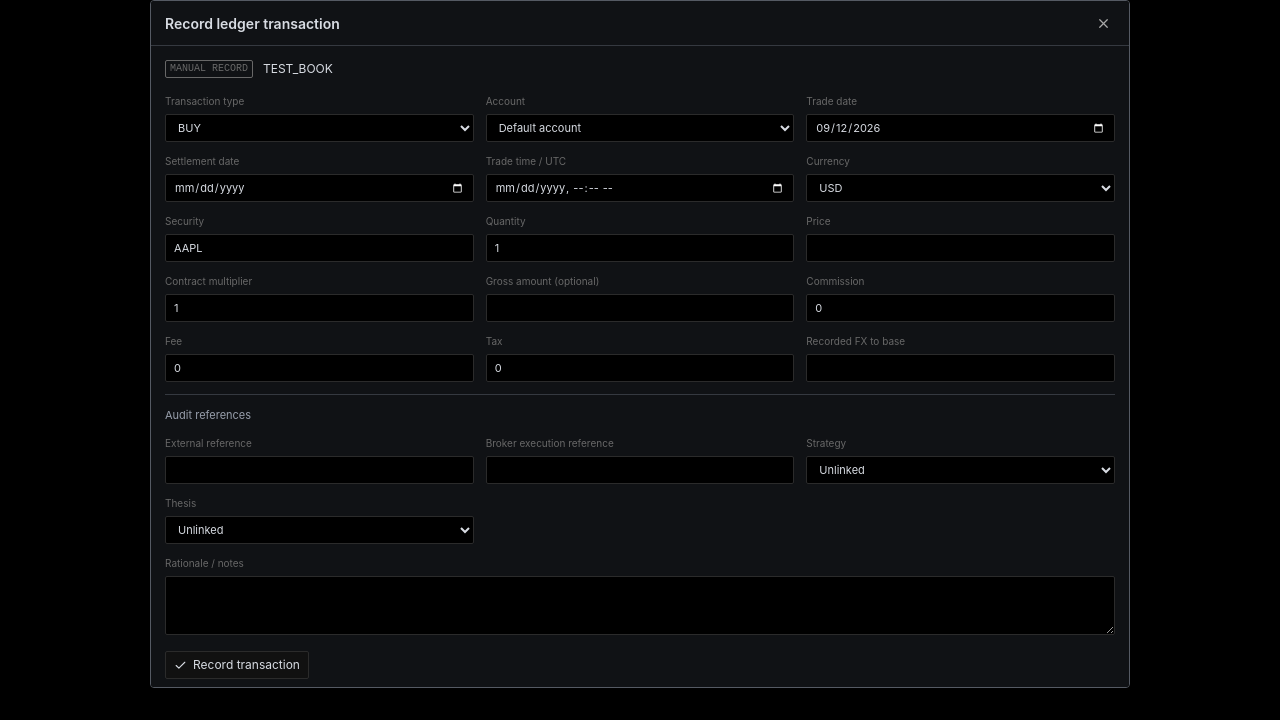
manual transaction entry › exposes the correct reverse-split, spinoff and merger inputs
expect the element "Transaction type" is enabled: met, box [165,94,1115,651]
Select "REVERSE_SPLIT" in the dropdown labelled "Transaction type" at x=319, y=128, box [165,114,474,142]
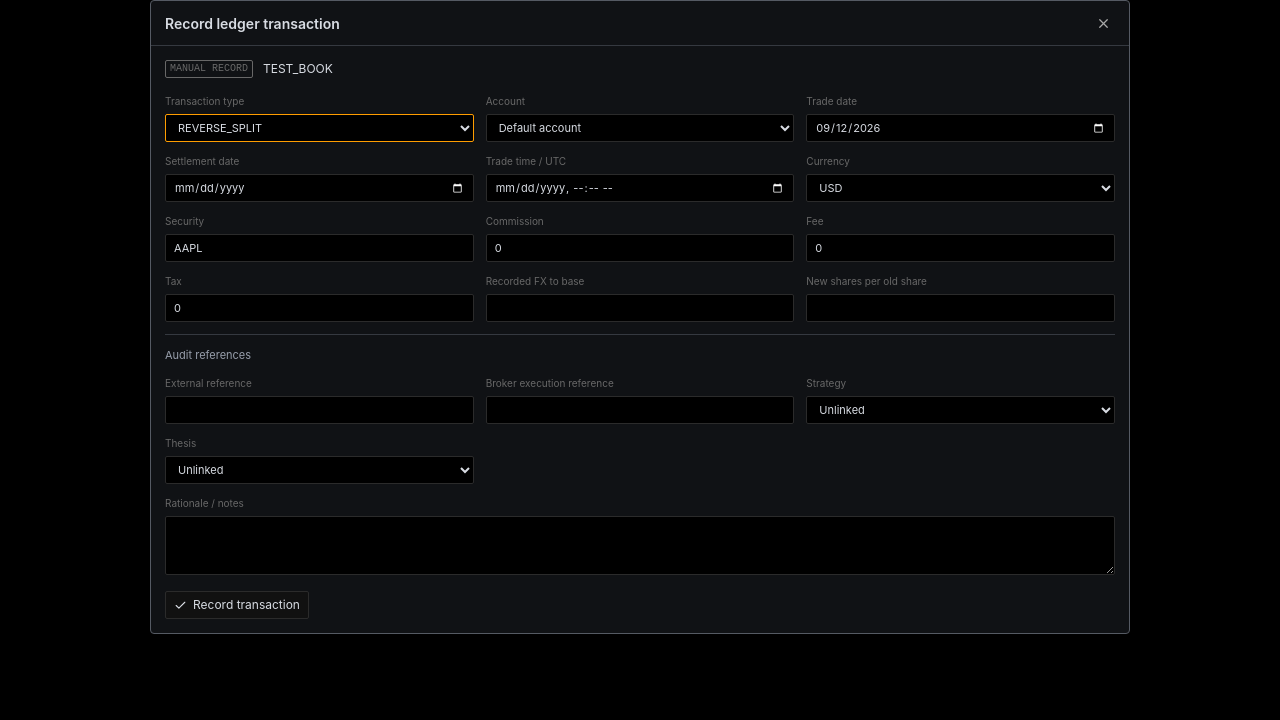
expect the element "Transaction type" is enabled: met, box [165,94,1115,591]
expect the number field labelled "New shares per old share" is shown: met, box [806,294,1115,322]
expect the text labelled "Price" is gone: met
Select "SPINOFF" in the dropdown labelled "Transaction type" at x=319, y=128, box [165,114,474,142]
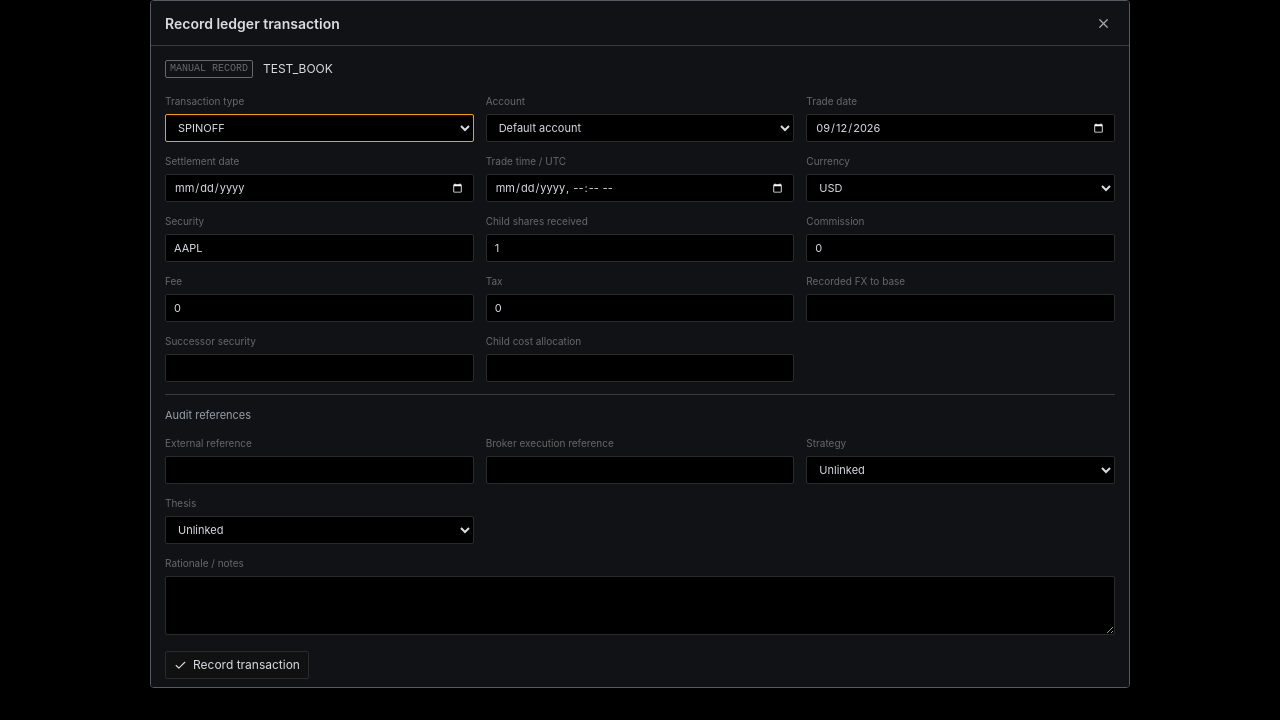
expect the element "Transaction type" is enabled: met, box [165,94,1115,651]
expect the number field labelled "Child shares received" is shown: met, box [486,234,794,262]
expect the number field labelled "Child cost allocation" is shown: met, box [486,354,794,382]
Select "MERGER" in the dropdown labelled "Transaction type" at x=319, y=128, box [165,114,474,142]
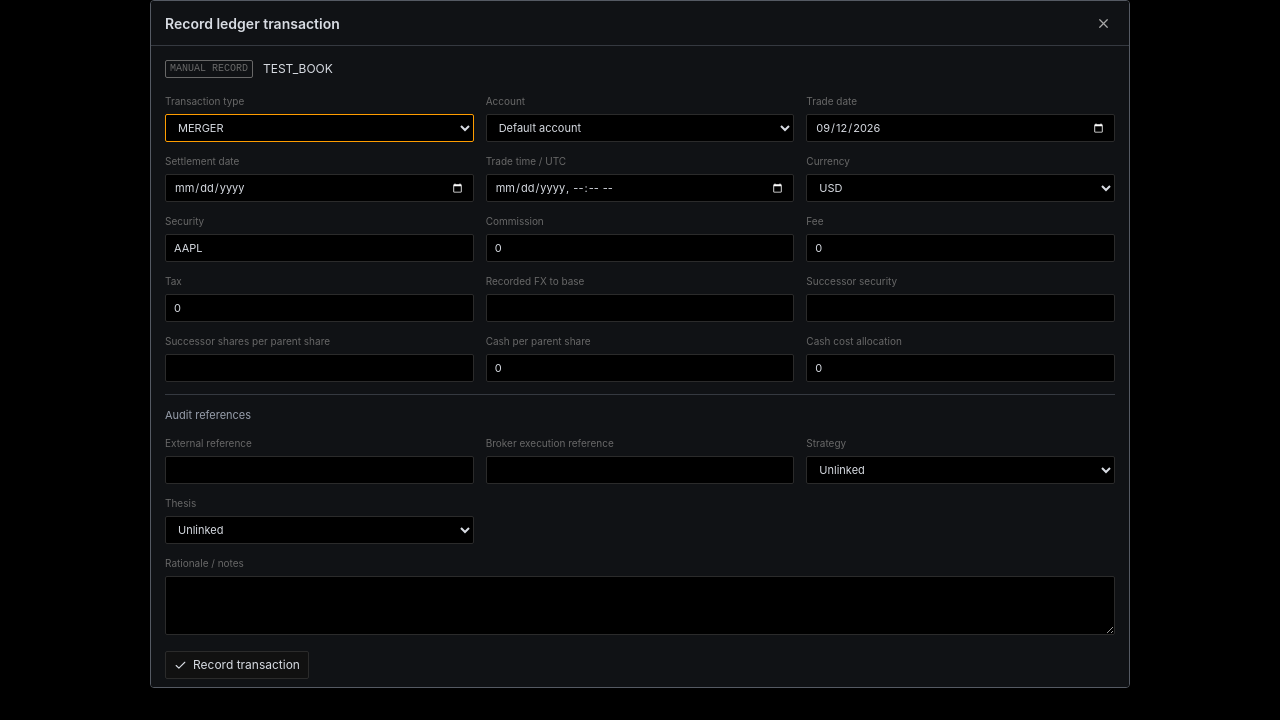
expect the number field labelled "Successor shares per parent share" is shown: met, box [165,354,474,382]
expect the number field labelled "Cash per parent share" is shown: met, box [486,354,794,382]
expect the text labelled "Child shares received" is gone: met
